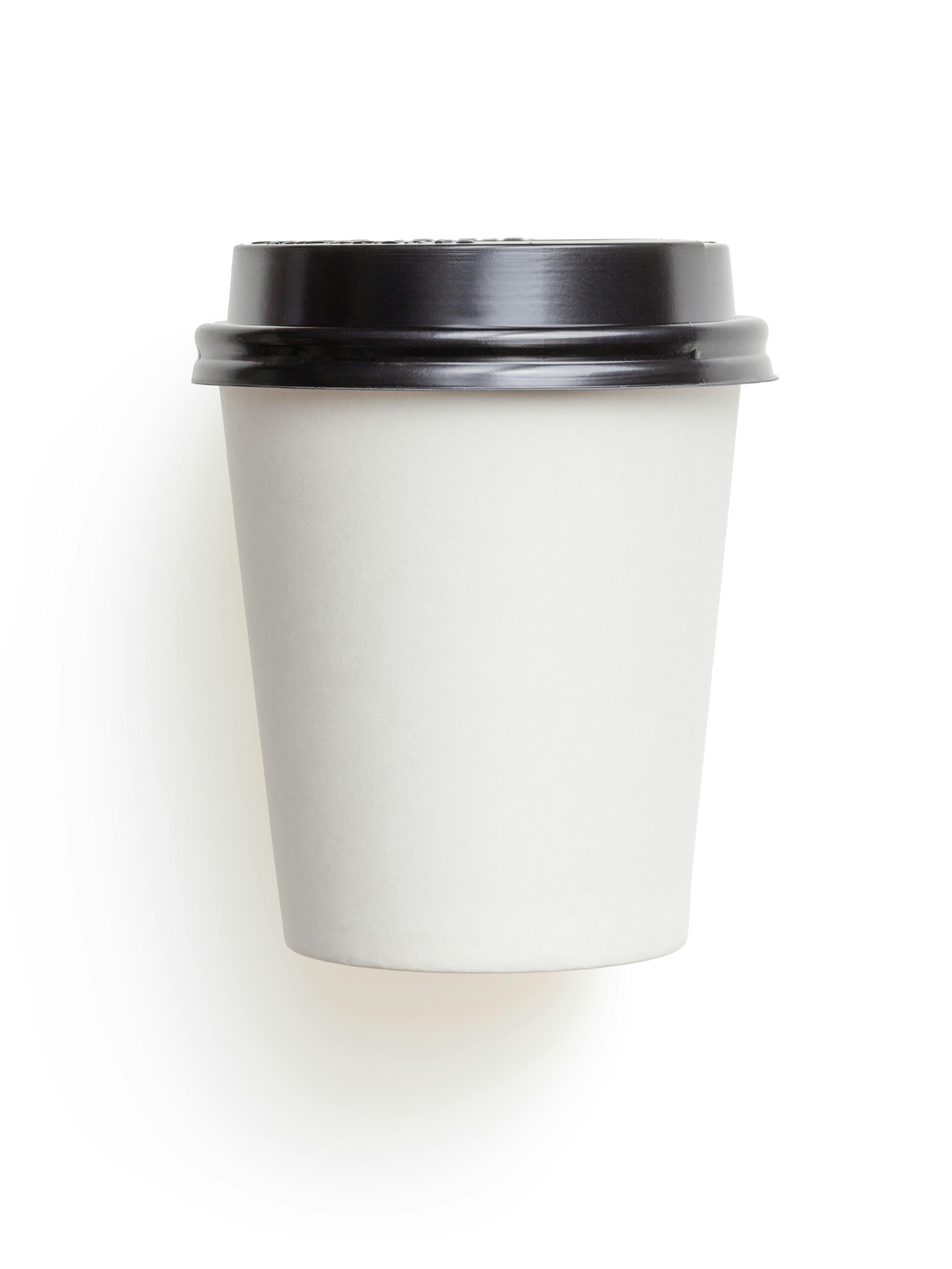Bottle-Detection: (138, 166, 825, 1047)
